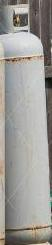cylinder: (0, 1, 52, 245)
